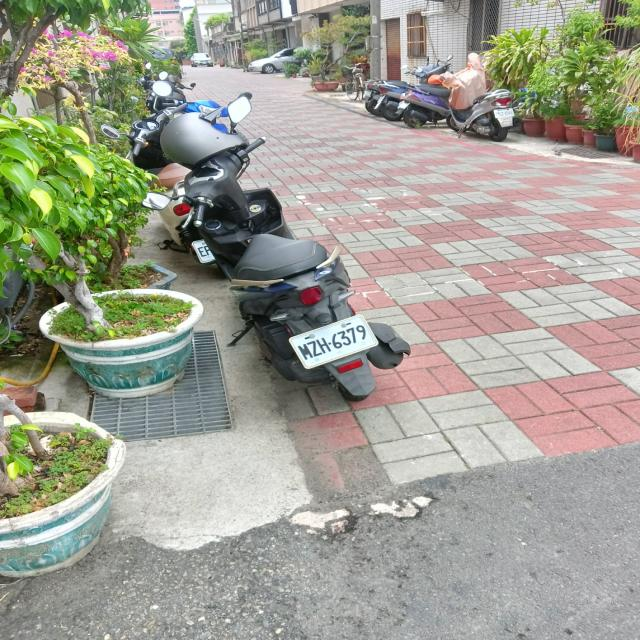license-plate: (286, 313, 378, 371)
